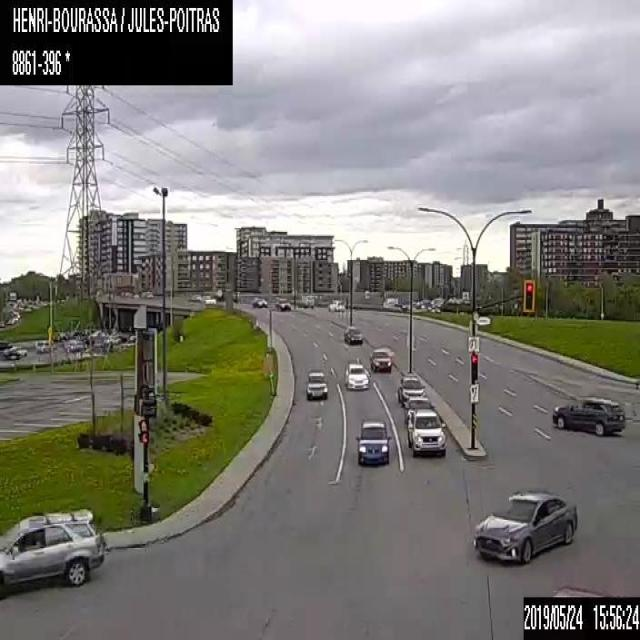vehicle: (0, 505, 105, 599), (472, 486, 578, 566), (549, 392, 625, 436), (408, 408, 447, 456), (357, 418, 389, 463), (402, 395, 434, 424), (549, 583, 607, 597), (396, 375, 424, 403), (343, 362, 369, 390), (305, 370, 327, 398), (369, 348, 392, 370), (343, 324, 361, 344), (296, 292, 314, 306), (275, 296, 290, 311), (35, 339, 50, 353), (327, 298, 343, 310), (253, 296, 267, 309)
